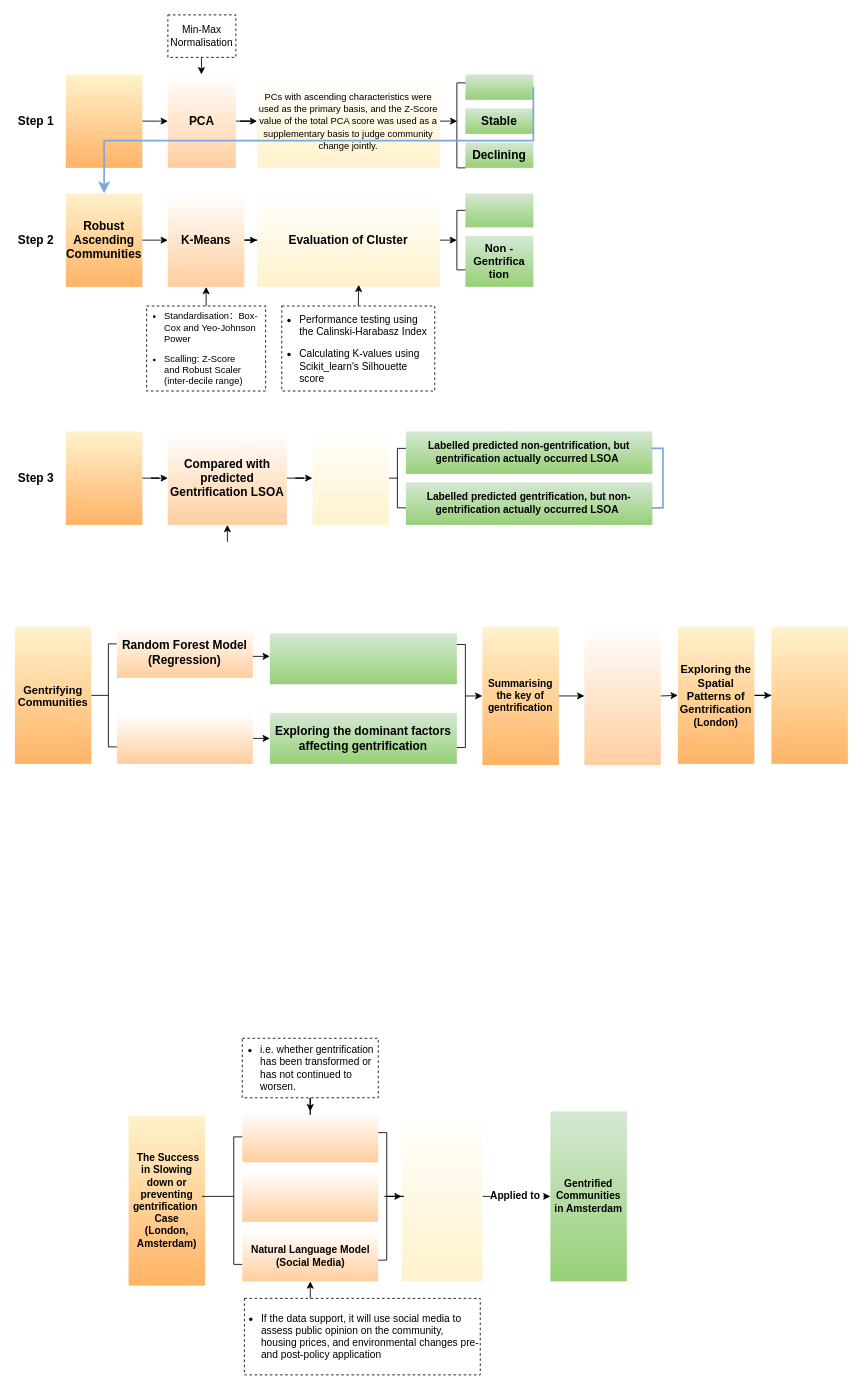
This 862x1390 diagram has some shape labels left out. The shapes that lost their labels are listed below. From the top down, each one's centre as x and y in pixels, then its label:
point (499, 86): Ascending
point (103, 120): Ne
point (499, 210): Gentrifica tion
point (103, 477): Robust Gentrification LSOA
point (350, 477): Explore spatial differences
point (362, 658): Exploring the importance of all factors
point (622, 695): GWR Models
point (809, 694): Comparing the Spatial Patterns of Gentrification (Amsterdam)
point (184, 737): M ultiple Linear Regression Model (Sellect factors)
point (310, 1136): Evaluating the Impact of Policies on Gentrification Trends
point (310, 1195): Examining if housing prices have been kept at reasonable rates
point (441, 1196): Summarising effective policies
